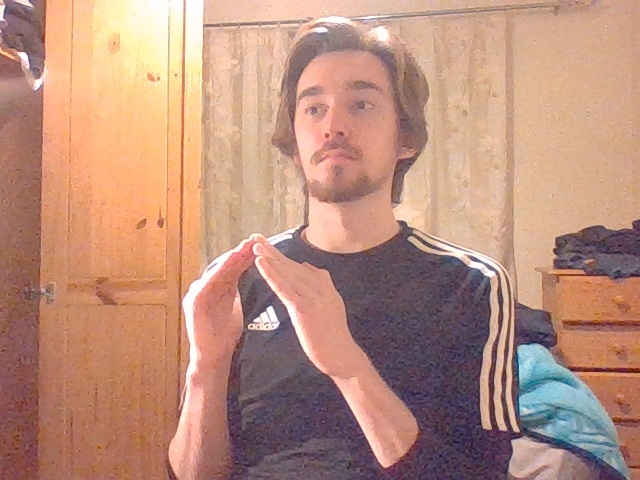home: (182, 231, 344, 317)
